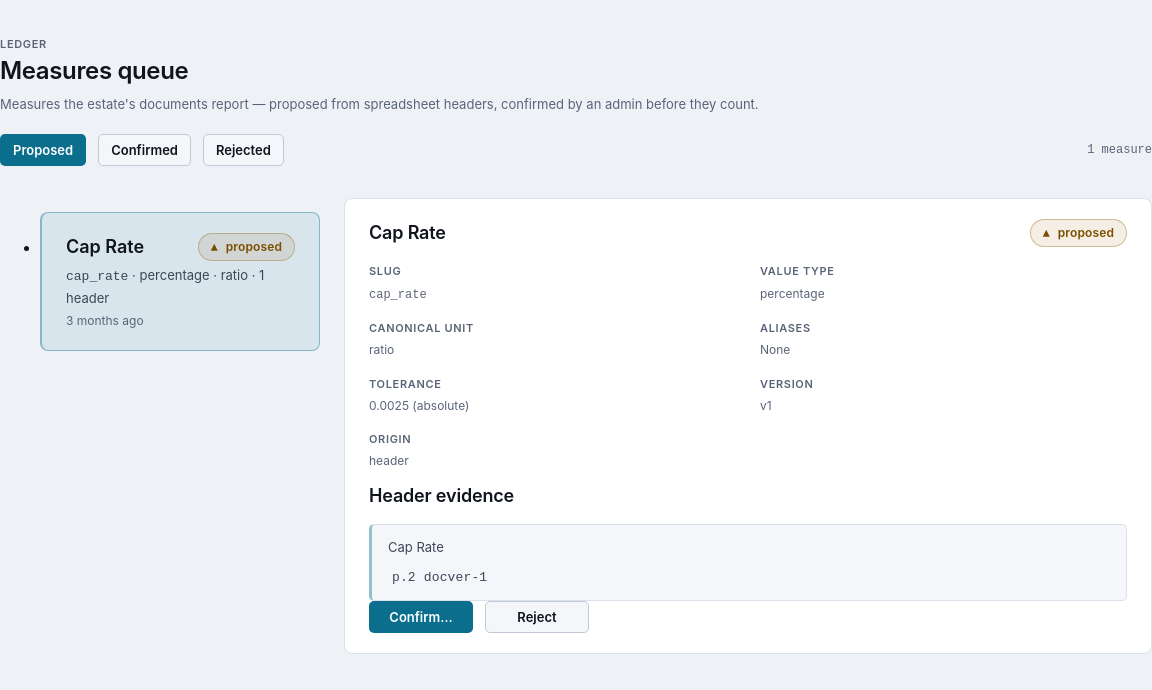
Test: MeasuresPage › confirms through the editor dialog, posts to the confirm endpoint, and drops the row from the proposed view
What coordinates should you click on to do the following:
click the button "Confirm…"
I would click on:
 (421, 617)
Its box is [369,601,473,633].
(page scrolled)
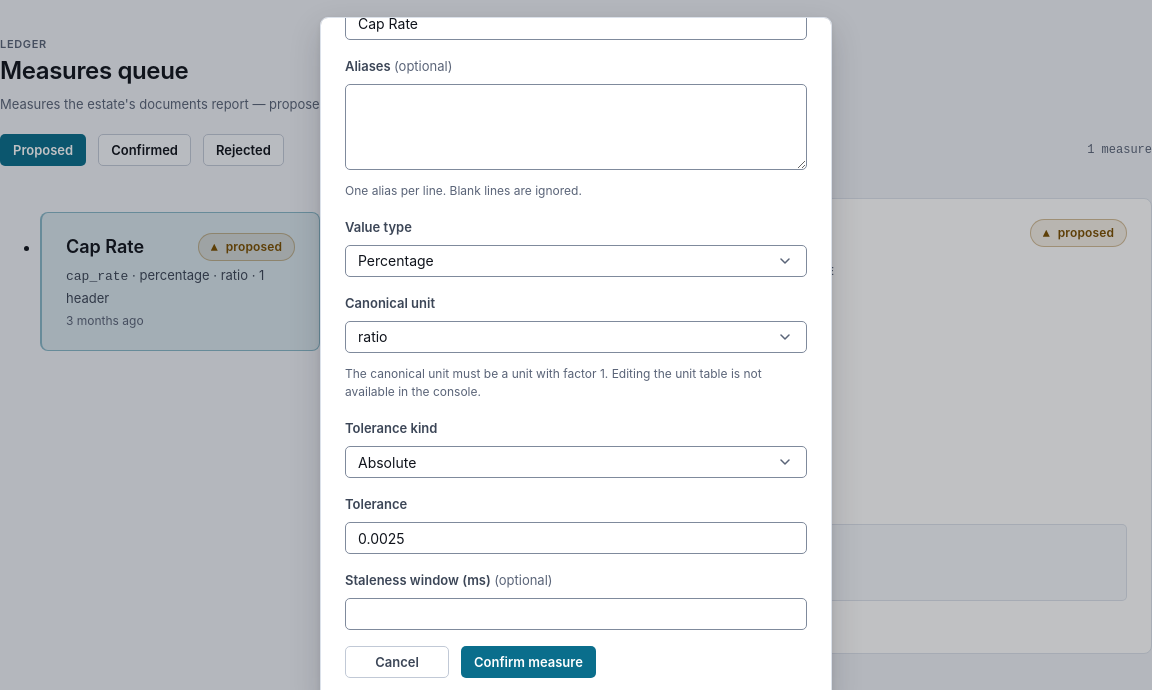
What coordinates should you click on to do the following:
click the button "Confirm measure"
I would click on:
 (528, 662)
Its box is [461,646,596,678].
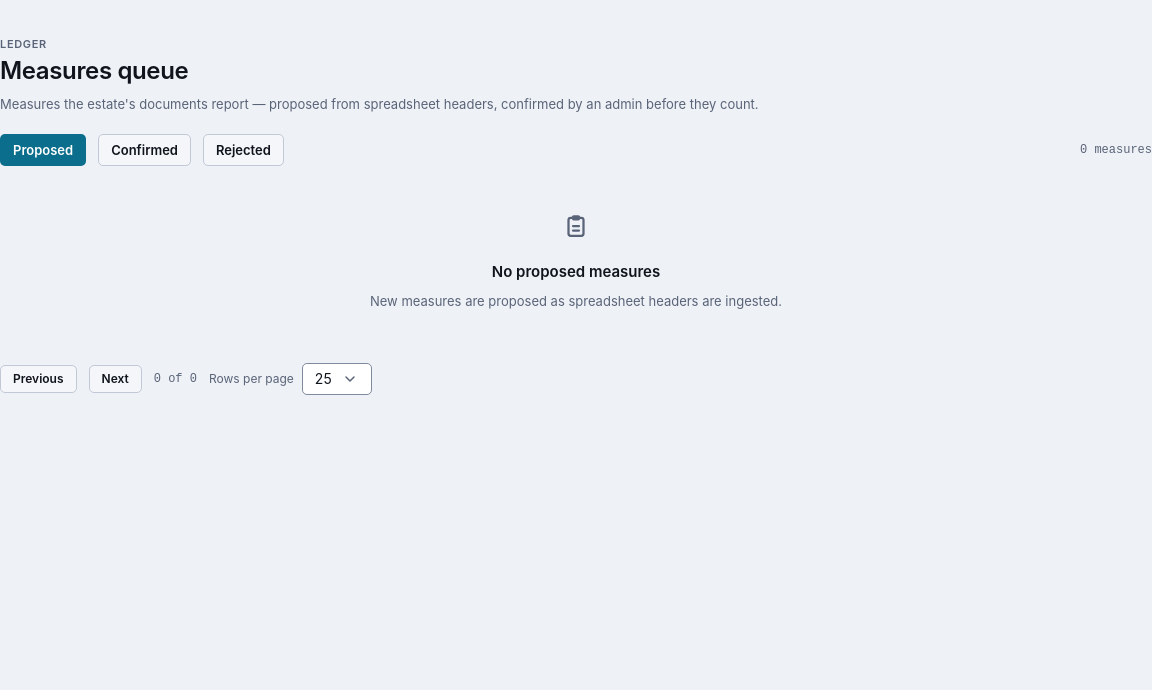
Check: the text "No proposed measures" is shown, box [492,260,660,283]
